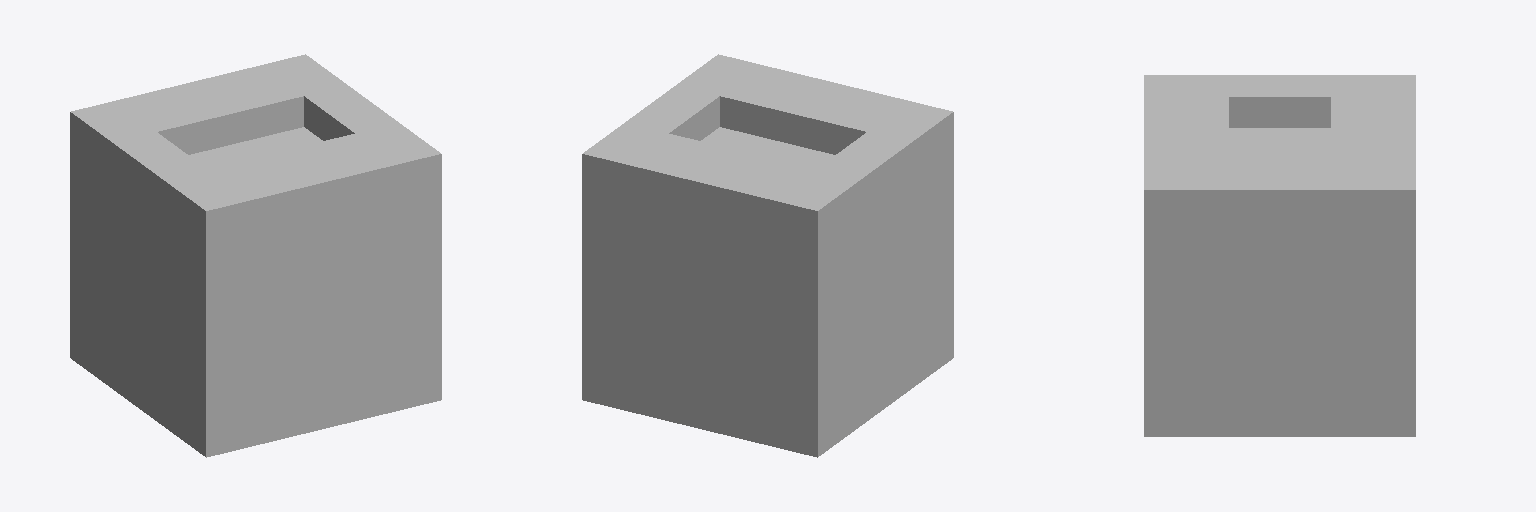
File: no_melterns_no_tools_sand_cast.obj
3 renders of one model, left to right at view 1: azimuth 30°, elevation 25°; view 2: azimuth 150°, elevation 25°; view 3: azimuth 270°, elevation 25°, orthographic.
Visible parts, largest first — view 1: cube; view 2: cube; view 3: cube.
Boxes of the visible parts, <box> form: cube: <box>70,54,441,457</box>; cube: <box>582,54,953,457</box>; cube: <box>1144,75,1415,436</box>.
Bounding box in the file's own units: 1 × 1 × 1.